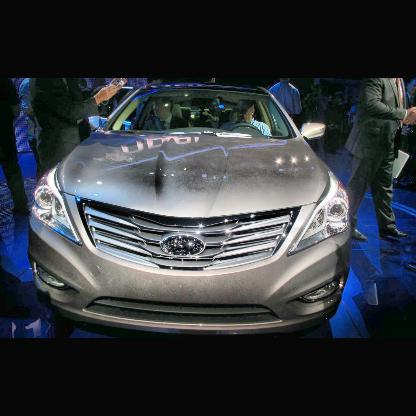Hyundai Azera Sedan 2012: (31, 81, 351, 333)
